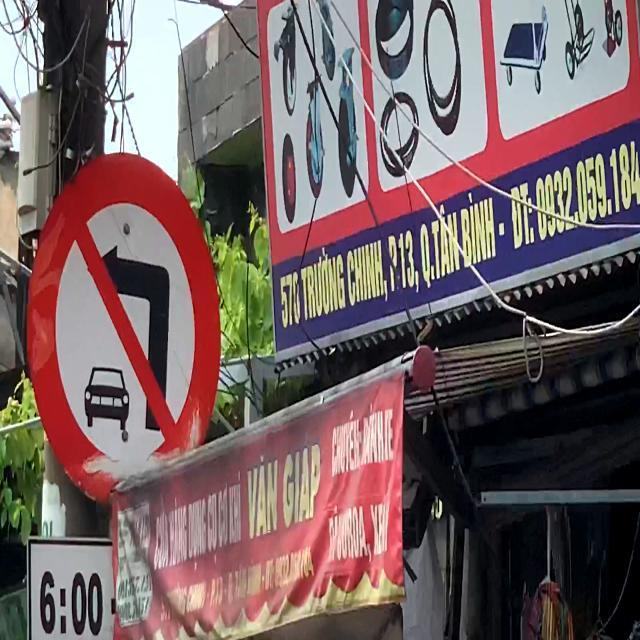123a-cam-re-trai: (24, 147, 222, 508)
